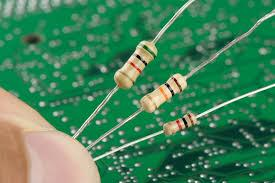resistor: (112, 39, 159, 91), (139, 73, 189, 114), (163, 113, 198, 136)
